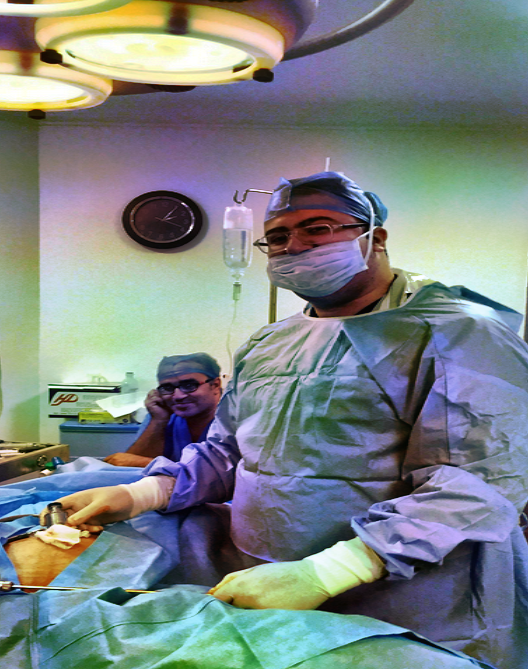mask_weared_incorrect: (245, 176, 388, 302)
